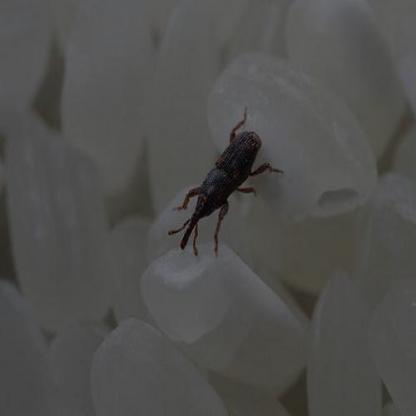rice-bug: (171, 114, 275, 258)
